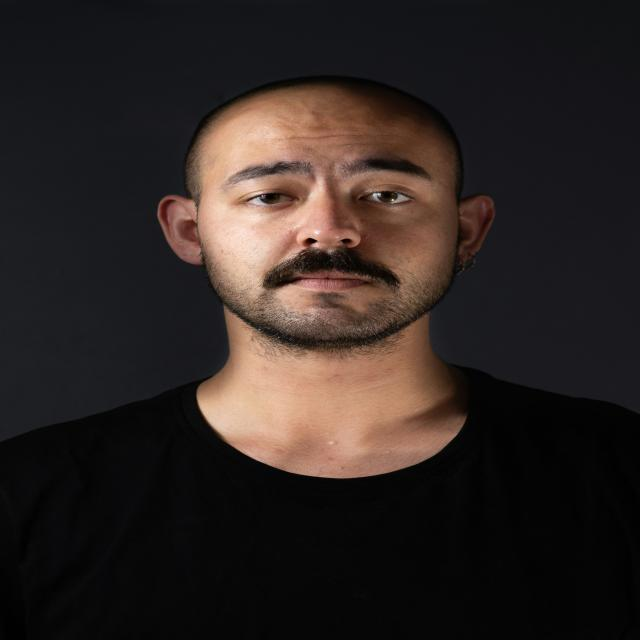human: (38, 71, 640, 638)
